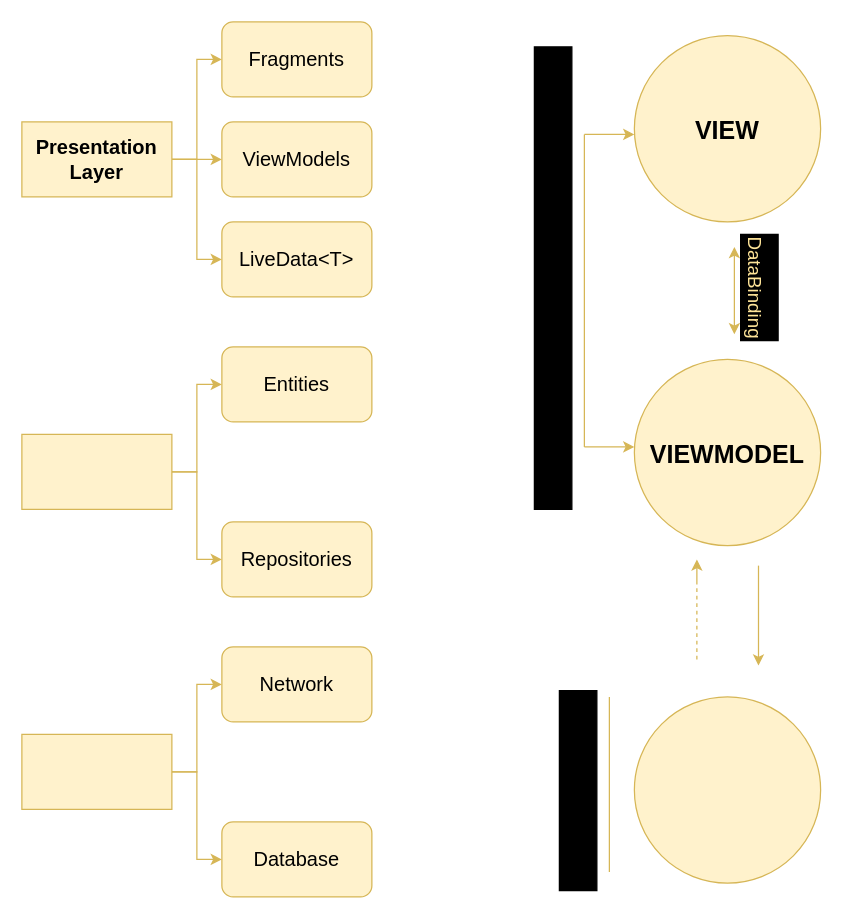
Image size: 843x919. Some labels were removed from this diagram. Each missing label, with the centre of its shape:
"BusinessLogic and Data" goes at (577,790).
"Data Layer" goes at (96,771).
"Domain Layer" goes at (96,471).
"MODEL" goes at (727,789).
"Presentation and Presentation Logic" goes at (552,277).
